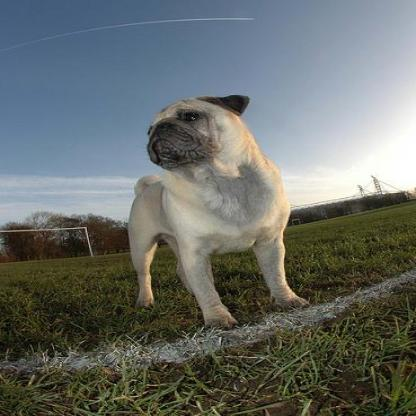pug: (121, 92, 312, 330)
